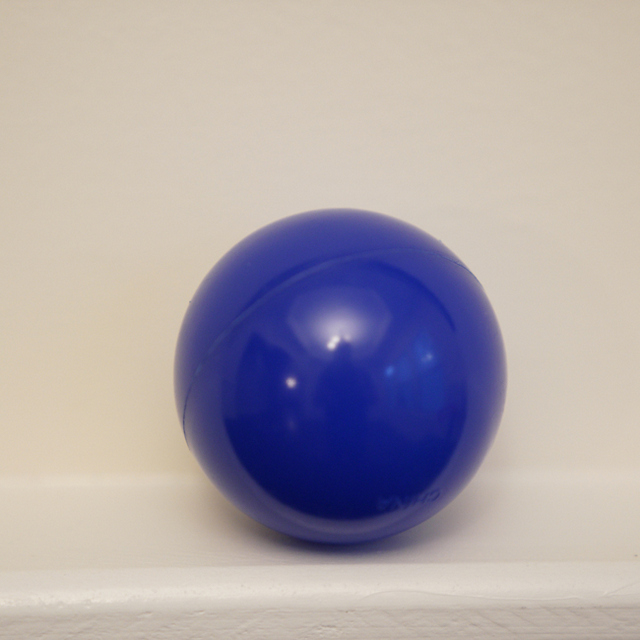Ball: (170, 208, 510, 548)
